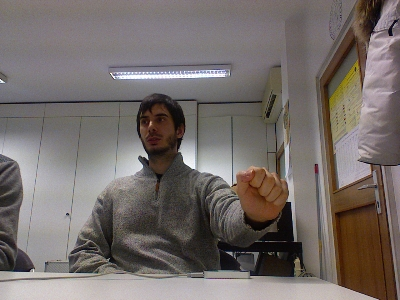石头: (233, 162, 290, 221)
